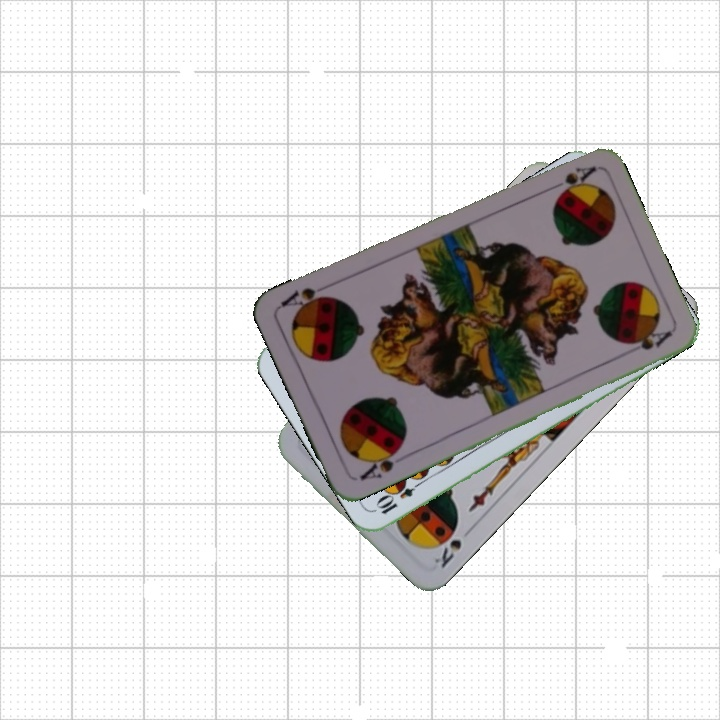E10: (373, 474, 427, 517)
SA: (355, 442, 409, 484), (542, 162, 598, 197)
SK: (430, 535, 464, 571)
